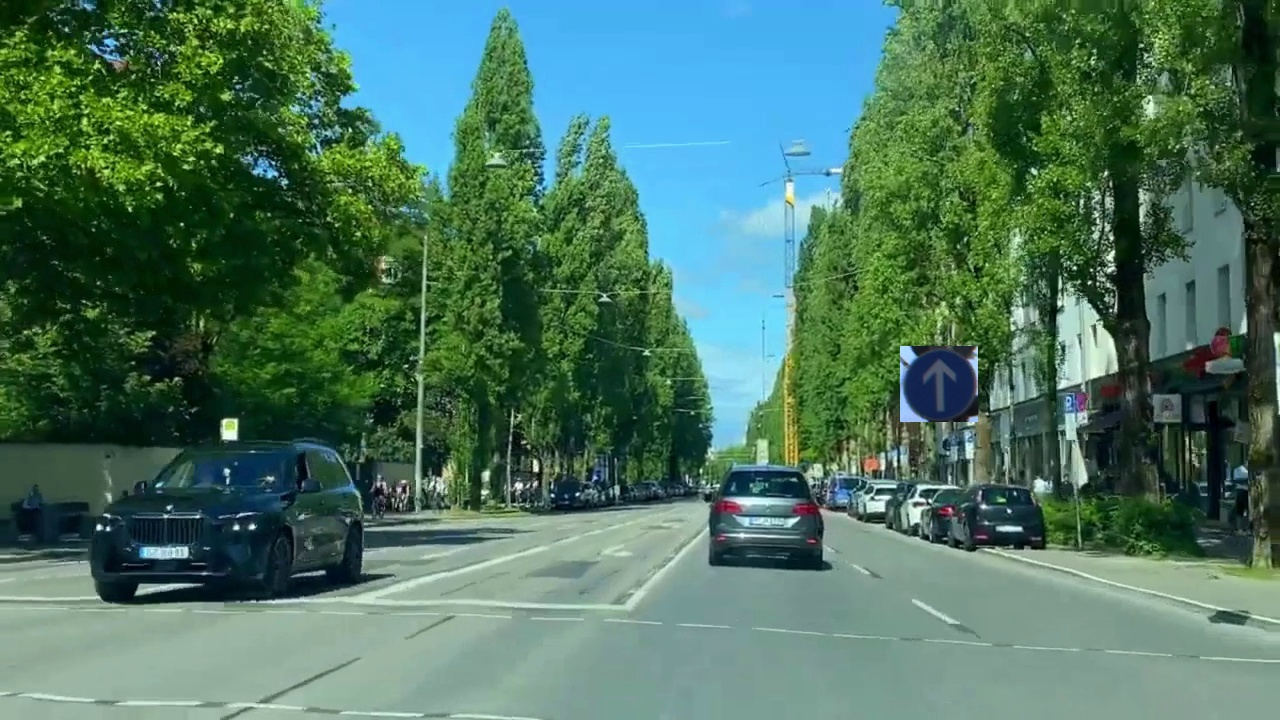Ahead only: (900, 346, 978, 422)
